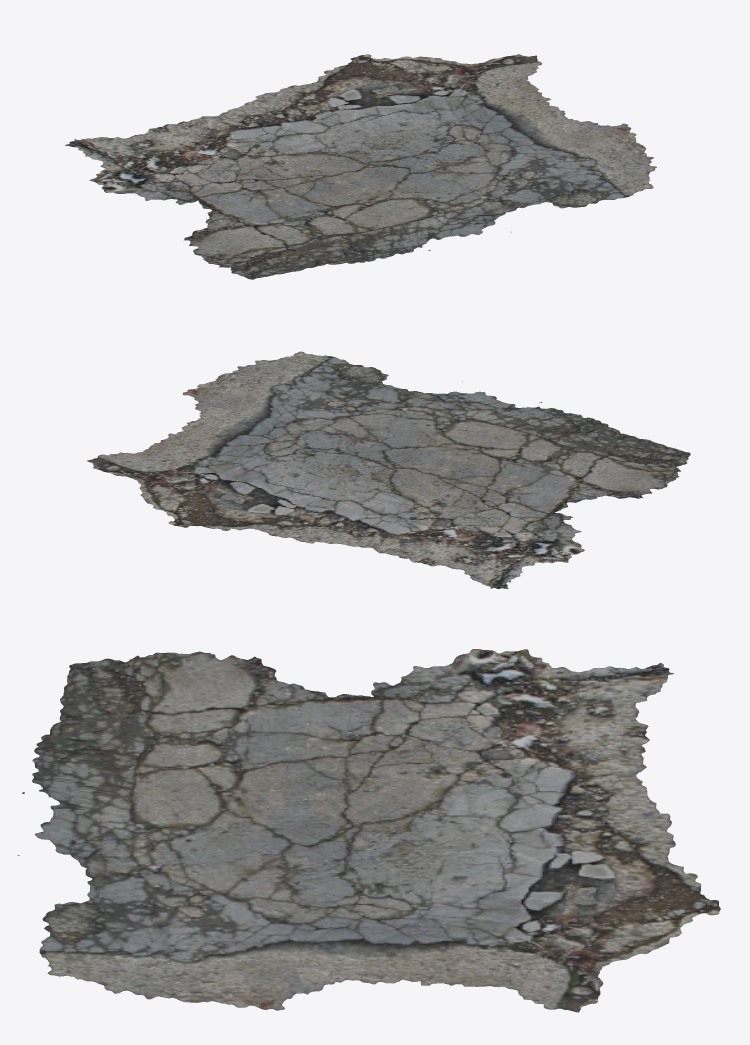
The model's file is HH_Decal_Asphalt_03.fbx.
3 views of the same model, one above another, from view 1: azimuth 30°, elevation 25°; view 2: azimuth 150°, elevation 25°; view 3: azimuth 270°, elevation 25° (orthographic). The views are drawn at different scales.
Parts seen in each view (by area): view 1: HH_Decal_Asphalt_03; view 2: HH_Decal_Asphalt_03; view 3: HH_Decal_Asphalt_03.
Part boxes in pixels (x1,y1,x2,y2): HH_Decal_Asphalt_03: (65,54,656,279); HH_Decal_Asphalt_03: (87,351,690,588); HH_Decal_Asphalt_03: (17,649,720,1012).
Bounding box in the file's own units: 263 × 0 × 206.
